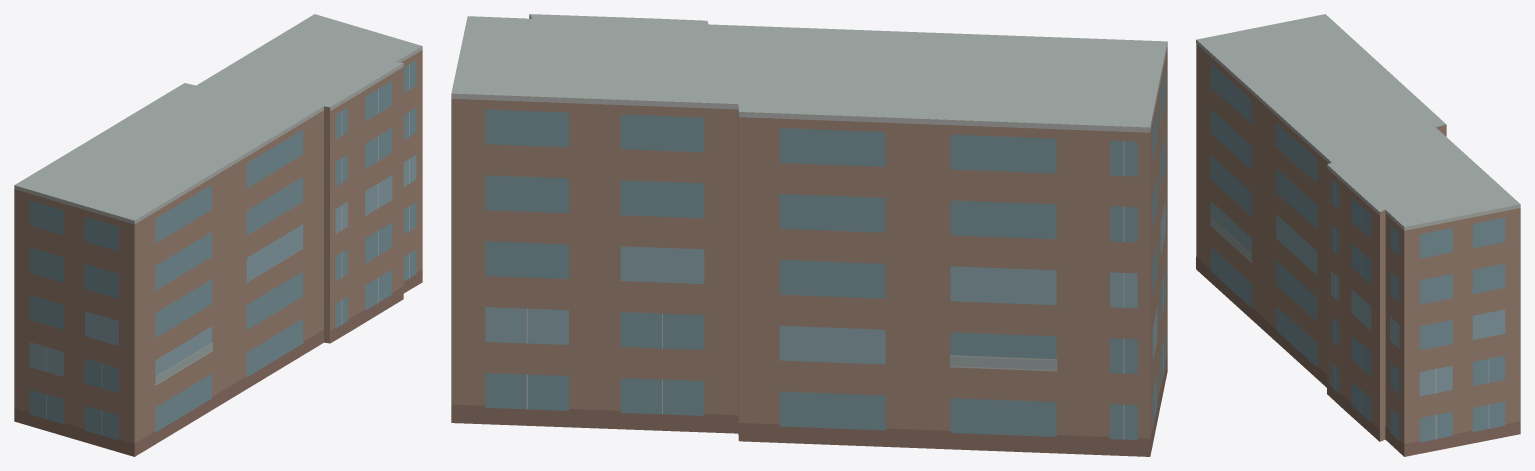
The model's file is survey-upis-32642663.glb.
3 renders of one model, left to right at view 1: azimuth 30°, elevation 25°; view 2: azimuth 150°, elevation 25°; view 3: azimuth 270°, elevation 25°, orthographic. The views are drawn at different scales.
Parts seen in each view (by area): view 1: survey-upis-32642663.tmp; view 2: survey-upis-32642663.tmp; view 3: survey-upis-32642663.tmp.
Part boxes in pixels (x1,y1,x2,y2): survey-upis-32642663.tmp: (14,14,422,456); survey-upis-32642663.tmp: (451,14,1167,456); survey-upis-32642663.tmp: (1196,14,1520,456).
Bounding box in the file's own units: 30.34 × 15.25 × 19.53.
